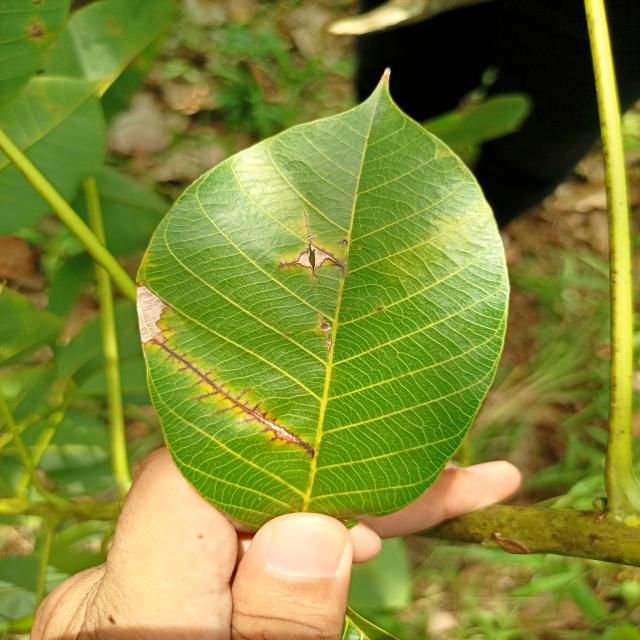Corynespora: (150, 336, 315, 458), (277, 260, 299, 270)
Leaf-Blight: (136, 286, 166, 344), (310, 245, 336, 269), (299, 251, 312, 267)
